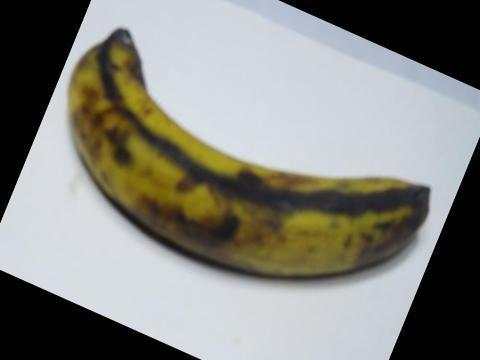overripe: (58, 21, 437, 298)
